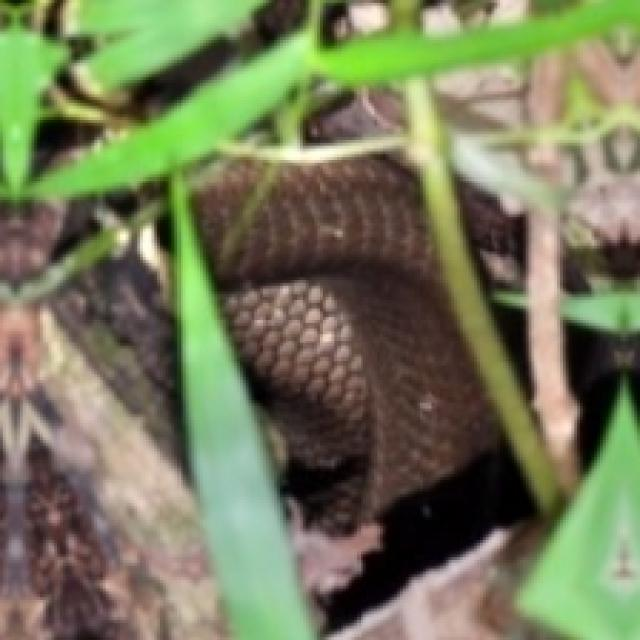king cobra: (31, 0, 320, 546), (354, 40, 557, 511)
